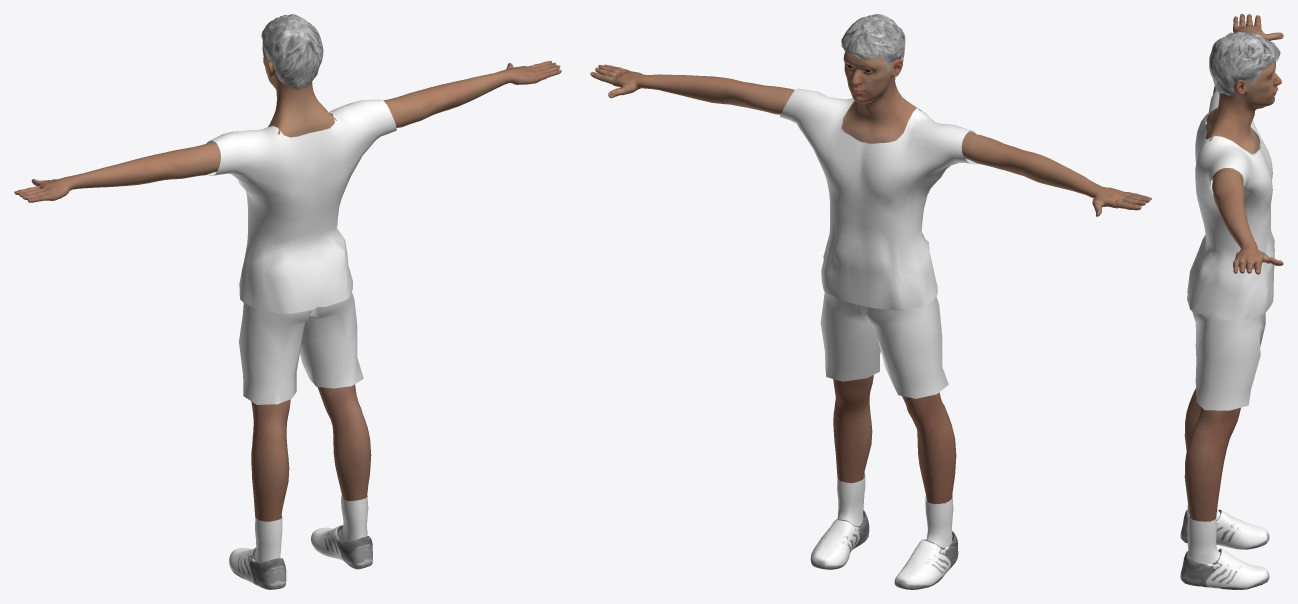
File: mensch_a.glb
The picture shows the model from 3 angles, left to right: view 1: azimuth 30°, elevation 25°; view 2: azimuth 150°, elevation 25°; view 3: azimuth 270°, elevation 25°; orthographic projection. The views are drawn at different scales.
Visible parts, largest first — view 1: mensch; view 2: mensch; view 3: mensch.
Part boxes in pixels (x1=…): mensch: x1=14, y1=14, x2=561, y2=589; mensch: x1=590, y1=14, x2=1151, y2=589; mensch: x1=1180, y1=14, x2=1283, y2=589.
Size of the model in its own units: 1.84 by 1.77 by 0.3117.
1 material, 1 textured.
